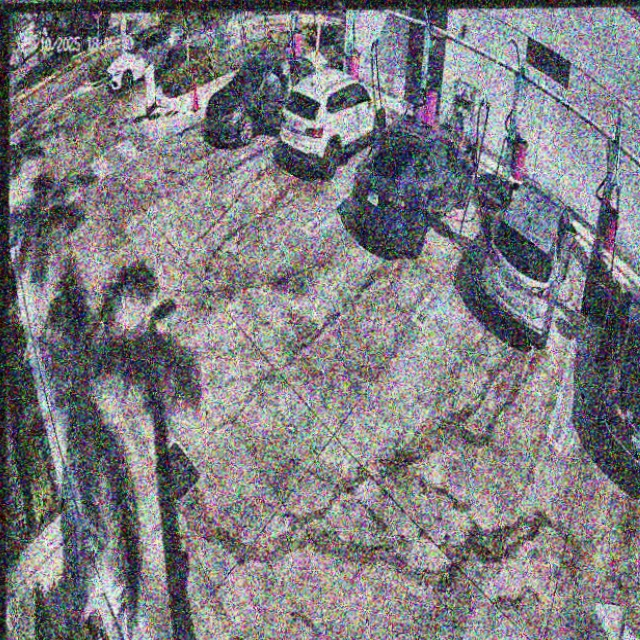Car: (471, 169, 572, 343), (353, 118, 474, 259), (200, 53, 315, 151), (282, 71, 387, 176)
